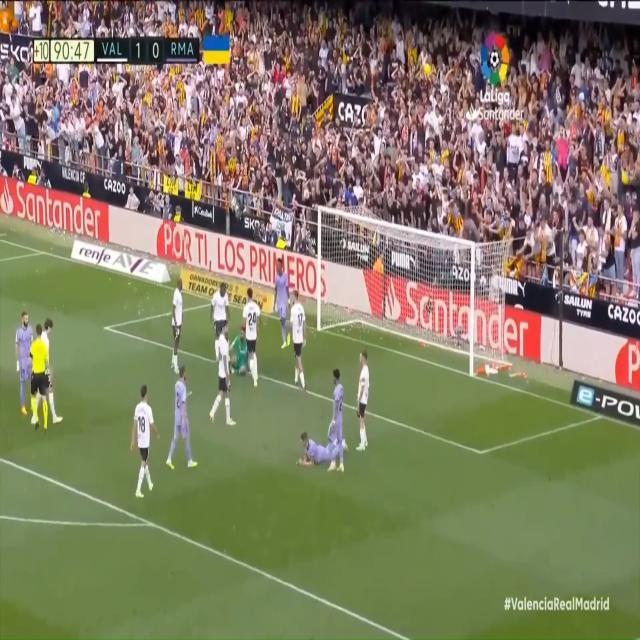goalkeeper: (227, 322, 252, 381)
player: (166, 362, 197, 474), (130, 383, 157, 503), (207, 322, 236, 427), (354, 346, 378, 456), (40, 314, 62, 427), (326, 358, 347, 476), (289, 288, 310, 397), (16, 309, 36, 419), (168, 278, 187, 379), (272, 258, 293, 349), (296, 432, 355, 463), (245, 289, 262, 389), (209, 279, 231, 353)
referee: (30, 320, 50, 433)
